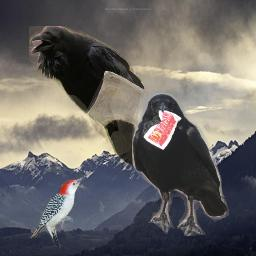Crow: (29, 26, 145, 168), (132, 93, 229, 236)
Woodpecker: (29, 176, 87, 251)
